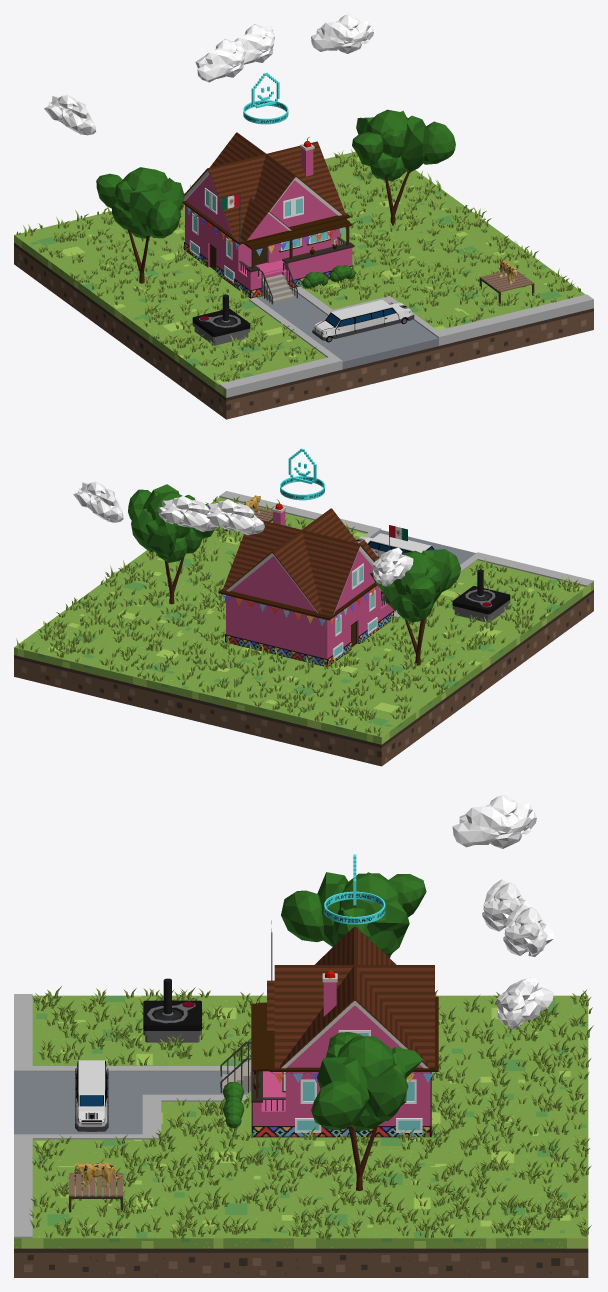
3 renders of one model, top to bottom at view 1: azimuth 30°, elevation 25°; view 2: azimuth 150°, elevation 25°; view 3: azimuth 270°, elevation 25°, orthographic. The views are drawn at different scales.
Visible parts, largest first — view 1: Cube.006, Cube.1005, Circle.012_Grass_0.192, Cube.007, tree, tree.001, VEHICLES_LIMOUSINE, OBJRANDOM_JOYSTICK, TYPE_PREMIUM, Cube.009; view 2: Cube.006, Cube.1005, Circle.012_Grass_0.192, Cube.007, tree.001, tree, OBJRANDOM_JOYSTICK, TYPE_PREMIUM, VEHICLES_LIMOUSINE; view 3: Cube.006, Circle.012_Grass_0.192, Cube.1005, tree, Cube.007, tree.001, OBJRANDOM_JOYSTICK, VEHICLES_LIMOUSINE, TYPE_PREMIUM, Cube.009, ANIMAL_JAGUAR.
Part boxes in pixels (x1,y1,x2,y2): Cube.006: (14,151,593,419); Cube.1005: (181,132,354,304); Circle.012_Grass_0.192: (16,149,580,381); Cube.007: (44,14,373,135); tree: (352,109,455,225); tree.001: (96,167,184,283); VEHICLES_LIMOUSINE: (312,299,414,342); OBJRANDOM_JOYSTICK: (192,294,250,345); TYPE_PREMIUM: (243,72,288,124); Cube.009: (479,271,534,303); Cube.006: (14,491,593,766); Cube.1005: (218,499,407,666); Circle.012_Grass_0.192: (16,496,580,736); Cube.007: (73,481,413,586); tree.001: (370,549,460,665); tree: (128,484,214,604); OBJRANDOM_JOYSTICK: (452,569,510,622); TYPE_PREMIUM: (280,448,324,500); VEHICLES_LIMOUSINE: (356,533,434,558); Cube.006: (14,994,588,1277); Circle.012_Grass_0.192: (29,986,593,1239); Cube.1005: (220,920,438,1137); tree: (311,1032,422,1190); Cube.007: (452,795,553,1029); tree.001: (281,872,426,957); OBJRANDOM_JOYSTICK: (143,978,201,1042); VEHICLES_LIMOUSINE: (75,1060,108,1131); TYPE_PREMIUM: (324,854,385,924); Cube.009: (69,1172,122,1212); ANIMAL_JAGUAR: (74,1162,121,1187).
Bounding box in the file's own units: 4071 × 2453 × 4040.
78 materials, 6 textured.
